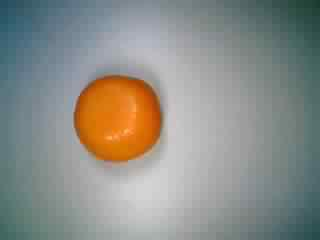orange: (70, 70, 165, 164)
